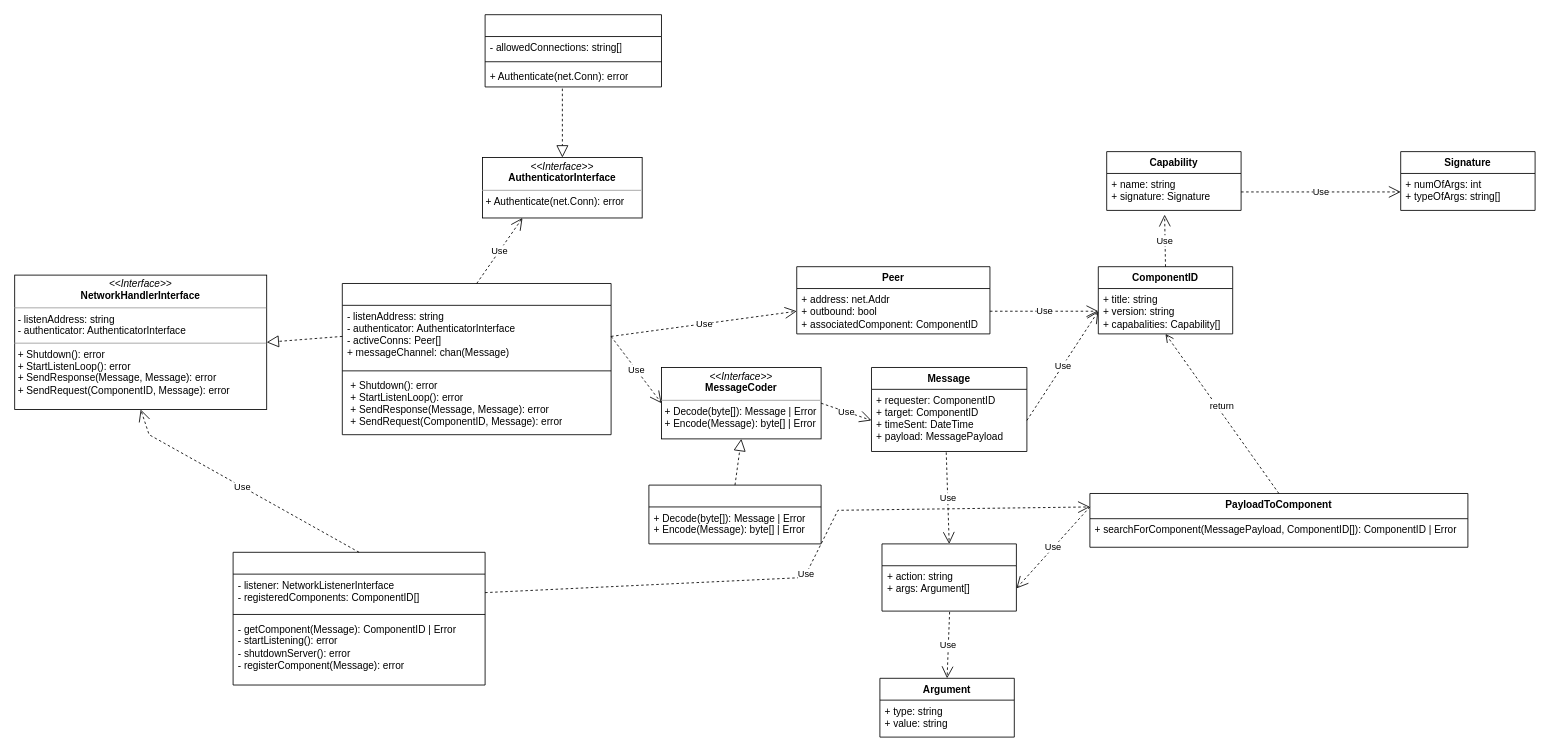
The diagram is 1550 pixels wide and 754 high, and some of its shapes have lost their labels. The box of each missing label's shape, as (x1, y1, x2, y2) in pixels:
JSONMessageCoder: (648, 484, 821, 544)
MessagePayload: (881, 543, 1016, 611)
Router: (232, 551, 485, 685)
TCPHandler: (341, 283, 611, 435)
WhitelistAuthenticator: (484, 14, 662, 87)
